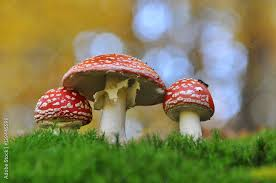Amanita muscaria: (52, 50, 166, 141), (159, 74, 217, 140), (32, 88, 92, 132)
